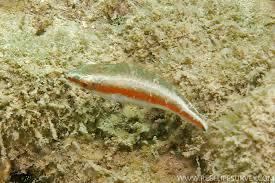Scaridae -Parrotfishes-: (65, 47, 214, 143)
